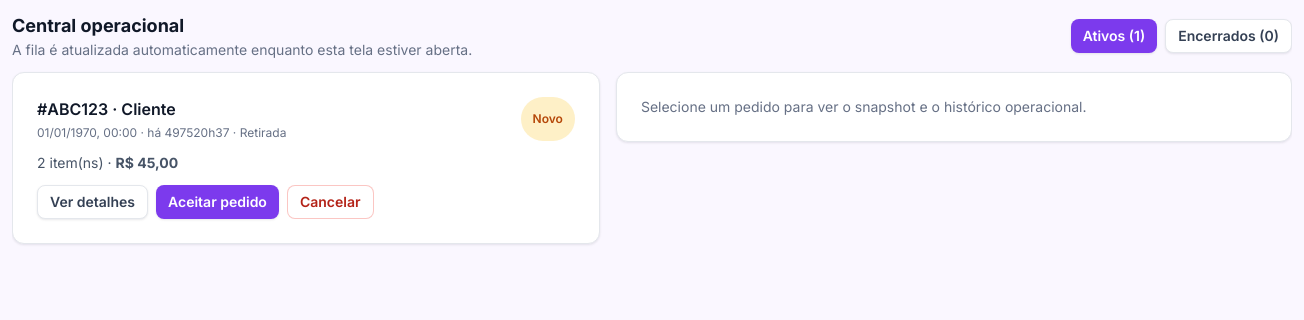
Scenario: operação de pedidos no painel › bloqueia duplo clique local antes de a primeira mutation terminar
What coordinates should you click on to do the following:
click the button "Aceitar pedido"
I would click on:
 (217, 202)
Its box is left=156, top=185, right=279, bottom=219.
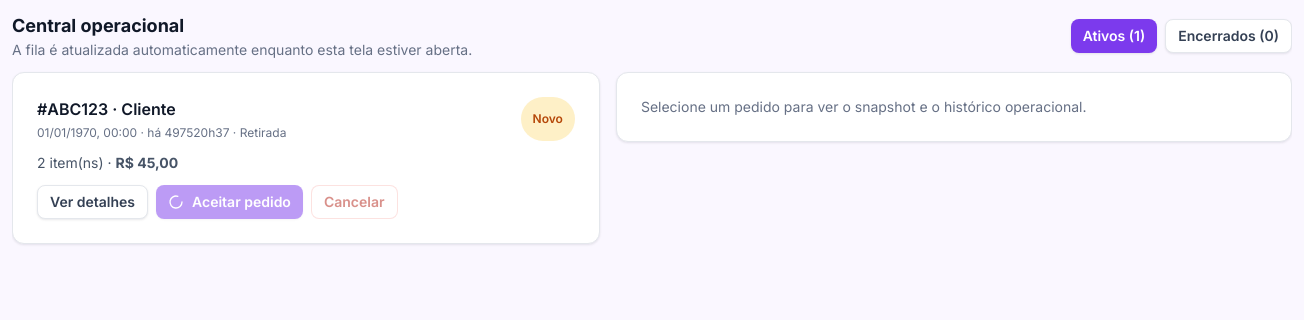
What coordinates should you click on to do the following:
click the button "Aceitar pedido"
I would click on:
 (229, 202)
Its box is left=156, top=185, right=303, bottom=219.
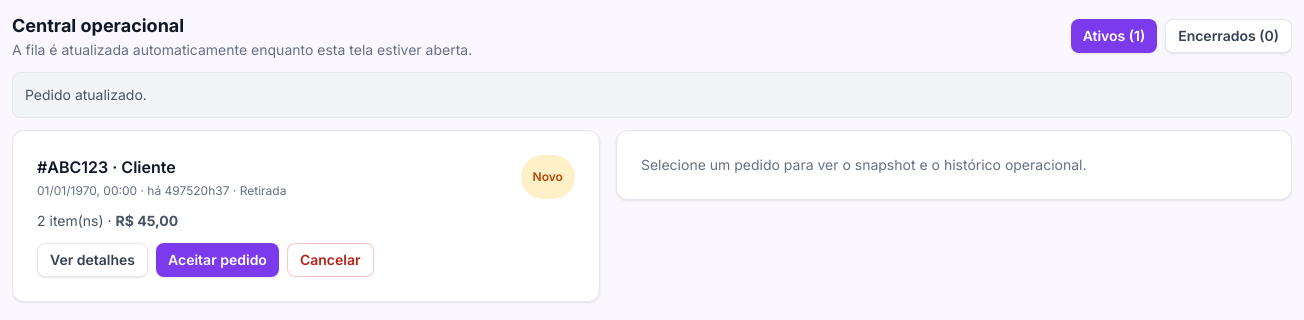
Expected: the button "Aceitar pedido" is enabled, left=156, top=243, right=279, bottom=277
